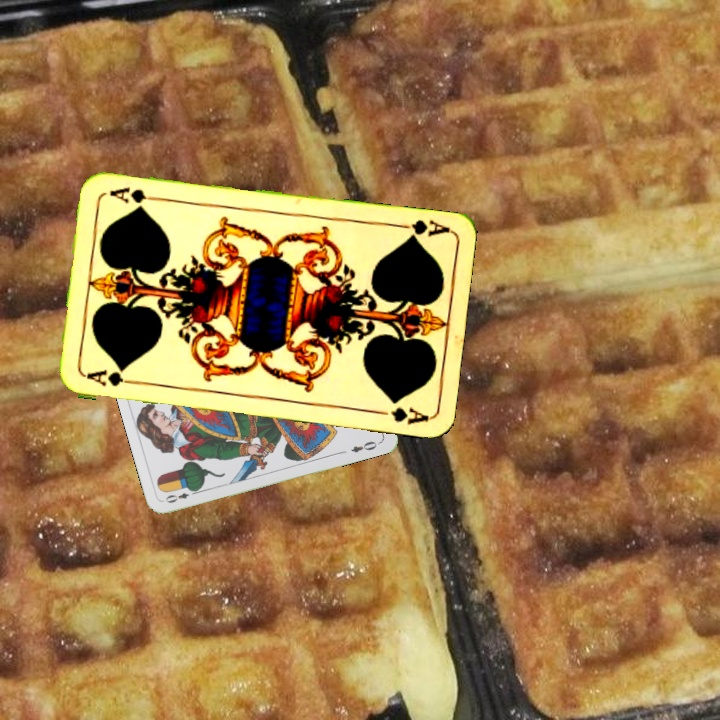EO: (161, 485, 201, 506)
GA: (392, 216, 451, 242), (82, 365, 141, 389)
